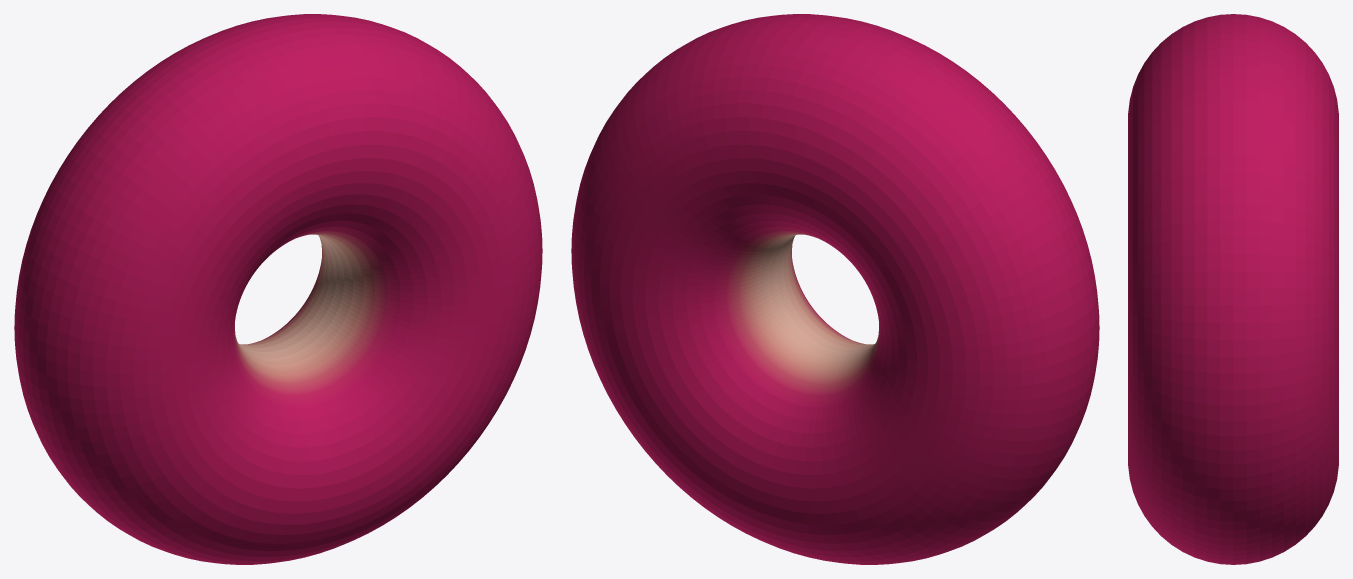
3 views of the same model, side by side, from view 1: azimuth 30°, elevation 25°; view 2: azimuth 150°, elevation 25°; view 3: azimuth 270°, elevation 25° (orthographic). The views are drawn at different scales.
Parts seen in each view (by area): view 1: world; view 2: world; view 3: world.
Boxes of the visible parts, <box> form: world: <box>14,14,542,564</box>; world: <box>571,14,1099,564</box>; world: <box>1128,14,1338,564</box>.
Size of the model in its own units: 20.53 by 20.53 by 7.85.
